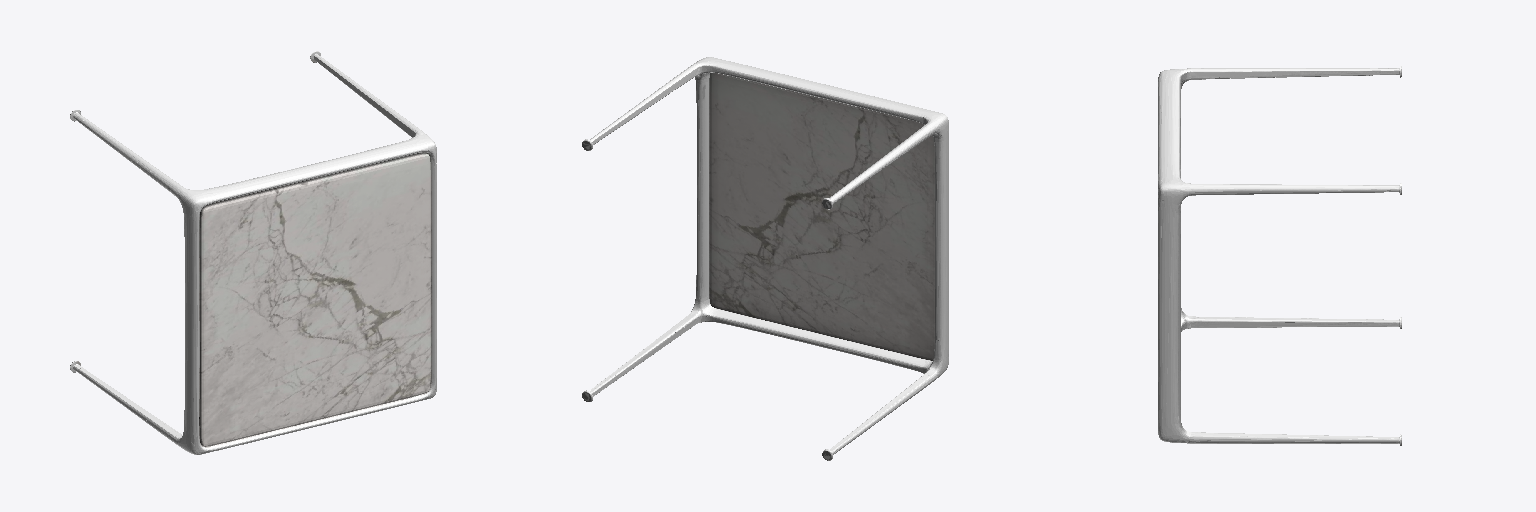
3 views of the same model, side by side, from view 1: azimuth 30°, elevation 25°; view 2: azimuth 150°, elevation 25°; view 3: azimuth 270°, elevation 25° (orthographic).
Bounding box in the file's own units: 0.6823 × 0.6823 × 0.5761.
1 materials, 1 textured.